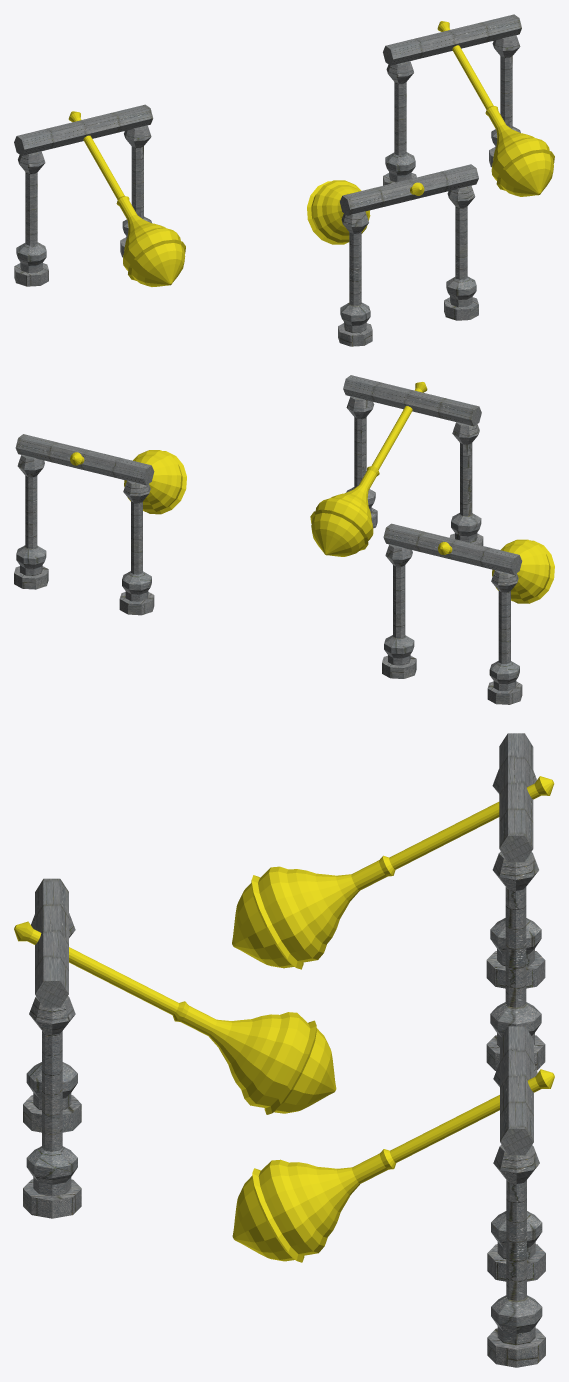
File: Gadha.fbx
3 renders of one model, top to bottom at view 1: azimuth 30°, elevation 25°; view 2: azimuth 150°, elevation 25°; view 3: azimuth 270°, elevation 25°, orthographic. The views are drawn at different scales.
Parts seen in each view (by area): view 1: Cylinder.002, Cylinder.004, Cylinder.005, Cylinder.003, Cylinder.001, Pillar1, Pillar2.002, Pillar2, Cylinder, Pillar2.001, Pillar1.002, Pillar1.001; view 2: Cylinder, Cylinder.001, Cylinder.003, Cylinder.005, Pillar2.002, Pillar1.001, Pillar1.002, Pillar2.001, Cylinder.002, Cylinder.004, Pillar1, Pillar2; view 3: Cylinder.004, Cylinder.002, Cylinder, Pillar1.001, Pillar2, Pillar1.002, Cylinder.005, Cylinder.001, Cylinder.003, Pillar2.002, Pillar1, Pillar2.001.
Part boxes in pixels (bbox=[...]): Cylinder.002: bbox=[437, 21, 554, 196]; Cylinder.004: bbox=[68, 111, 185, 286]; Cylinder.005: bbox=[14, 104, 153, 155]; Cylinder.003: bbox=[383, 14, 521, 65]; Cylinder.001: bbox=[340, 164, 478, 215]; Pillar1: bbox=[338, 211, 372, 346]; Pillar2.002: bbox=[14, 151, 48, 286]; Pillar2: bbox=[444, 185, 478, 320]; Cylinder: bbox=[307, 180, 424, 244]; Pillar2.001: bbox=[383, 61, 416, 185]; Pillar1.002: bbox=[120, 125, 151, 257]; Pillar1.001: bbox=[489, 35, 520, 167]; Cylinder: bbox=[310, 382, 427, 556]; Cylinder.001: bbox=[343, 375, 481, 426]; Cylinder.003: bbox=[15, 434, 154, 485]; Cylinder.005: bbox=[383, 523, 522, 574]; Pillar2.002: bbox=[487, 570, 522, 704]; Pillar1.001: bbox=[14, 454, 48, 589]; Pillar1.002: bbox=[382, 544, 416, 678]; Pillar2.001: bbox=[119, 480, 154, 615]; Cylinder.002: bbox=[70, 450, 186, 514]; Cylinder.004: bbox=[438, 539, 554, 603]; Pillar1: bbox=[449, 422, 483, 545]; Pillar2: bbox=[346, 396, 377, 528]; Cylinder.004: bbox=[232, 776, 554, 969]; Cylinder.002: bbox=[232, 1069, 554, 1262]; Cylinder: bbox=[14, 921, 336, 1114]; Pillar1.001: bbox=[487, 1144, 545, 1367]; Pillar2: bbox=[23, 996, 81, 1218]; Pillar1.002: bbox=[486, 851, 545, 1070]; Cylinder.005: bbox=[499, 733, 533, 862]; Cylinder.001: bbox=[35, 878, 68, 1007]; Cylinder.003: bbox=[500, 1026, 533, 1155]; Pillar2.002: bbox=[486, 769, 545, 988]; Pillar1: bbox=[23, 913, 81, 1132]; Pillar2.001: bbox=[487, 1062, 545, 1281].
Bounding box in the file's own units: 39.27 × 11.03 × 22.33.
